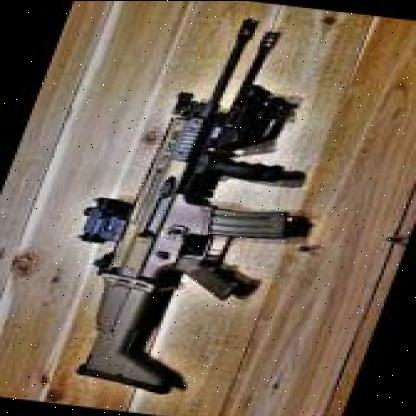rifle: (37, 9, 367, 400)
